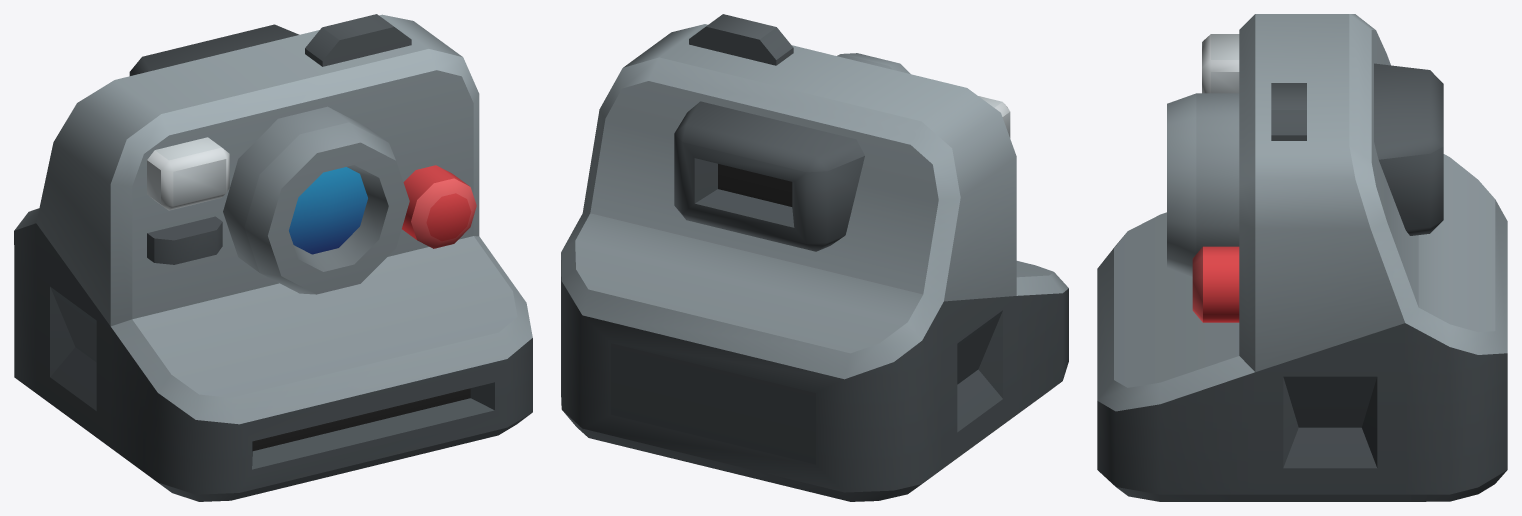
Rendered from instantcamera.fbx.
3 views of the same model, side by side, from view 1: azimuth 30°, elevation 25°; view 2: azimuth 150°, elevation 25°; view 3: azimuth 270°, elevation 25° (orthographic). The views are drawn at different scales.
Visible parts, largest first — view 1: instantcamera; view 2: instantcamera; view 3: instantcamera.
Boxes of the visible parts, x1,y1,x2,y2 form: instantcamera: (14,14,532,501); instantcamera: (561,14,1068,501); instantcamera: (1097,14,1507,501).
Size of the model in its own units: 0.6008 by 0.5576 by 0.5744.
